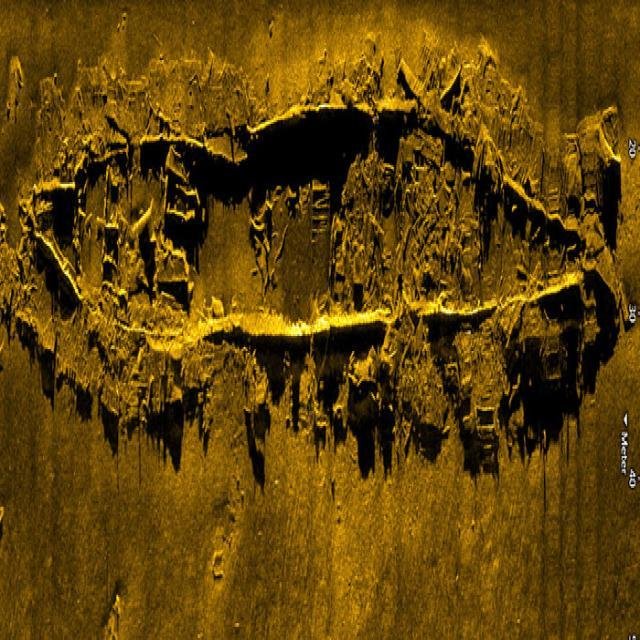shipwreck: (31, 135, 614, 385)
